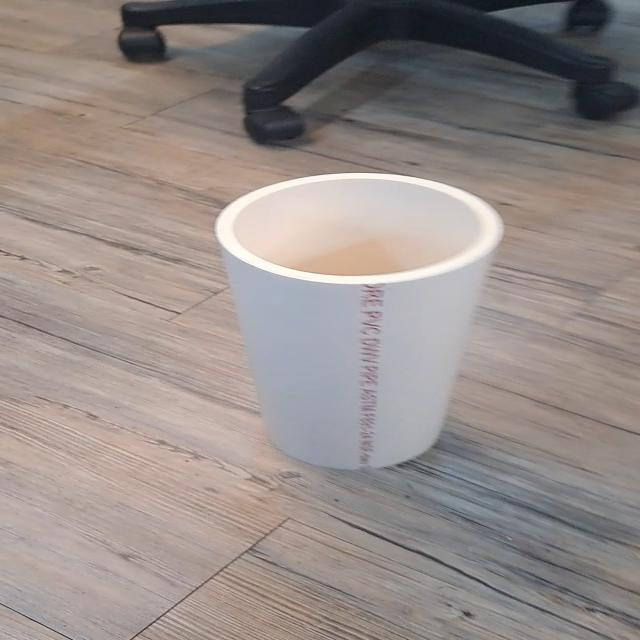CORAL: (199, 166, 514, 478)
